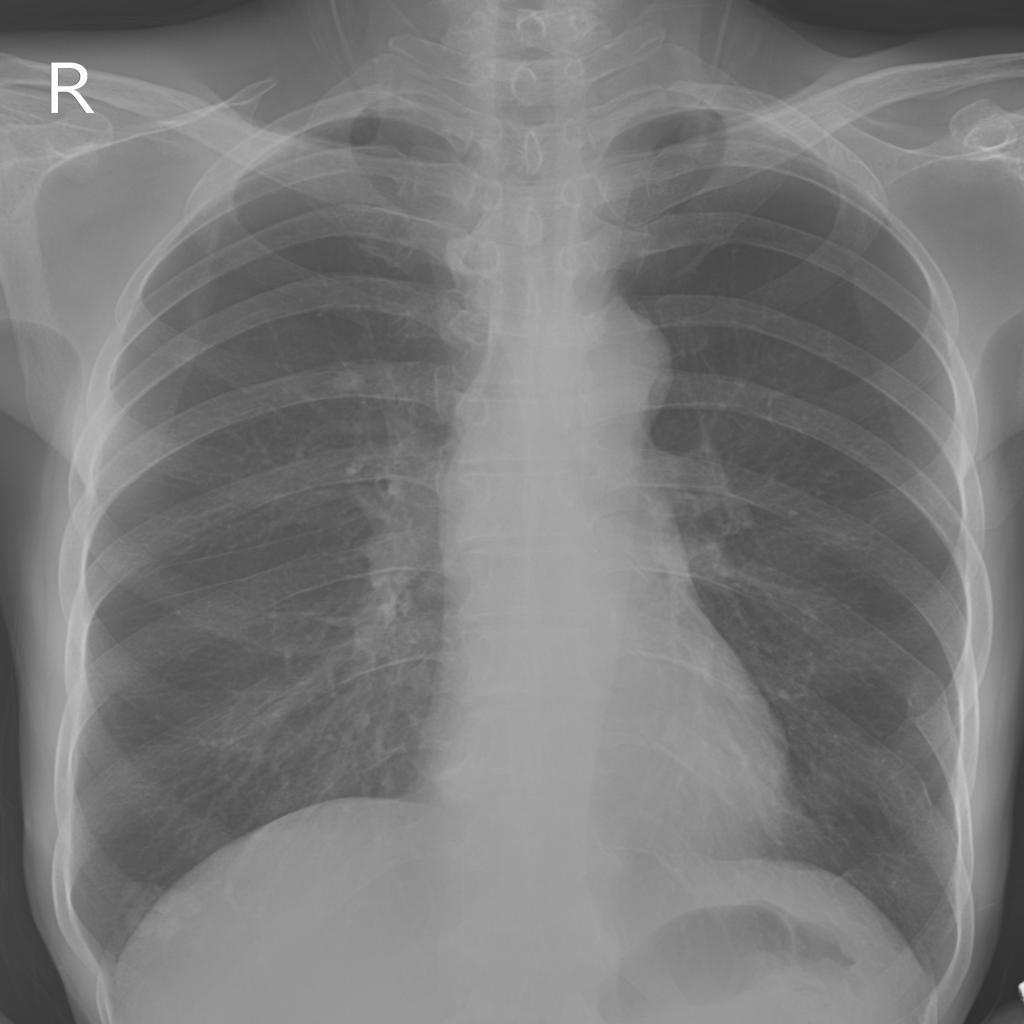Nodule: (320, 367, 375, 395)
